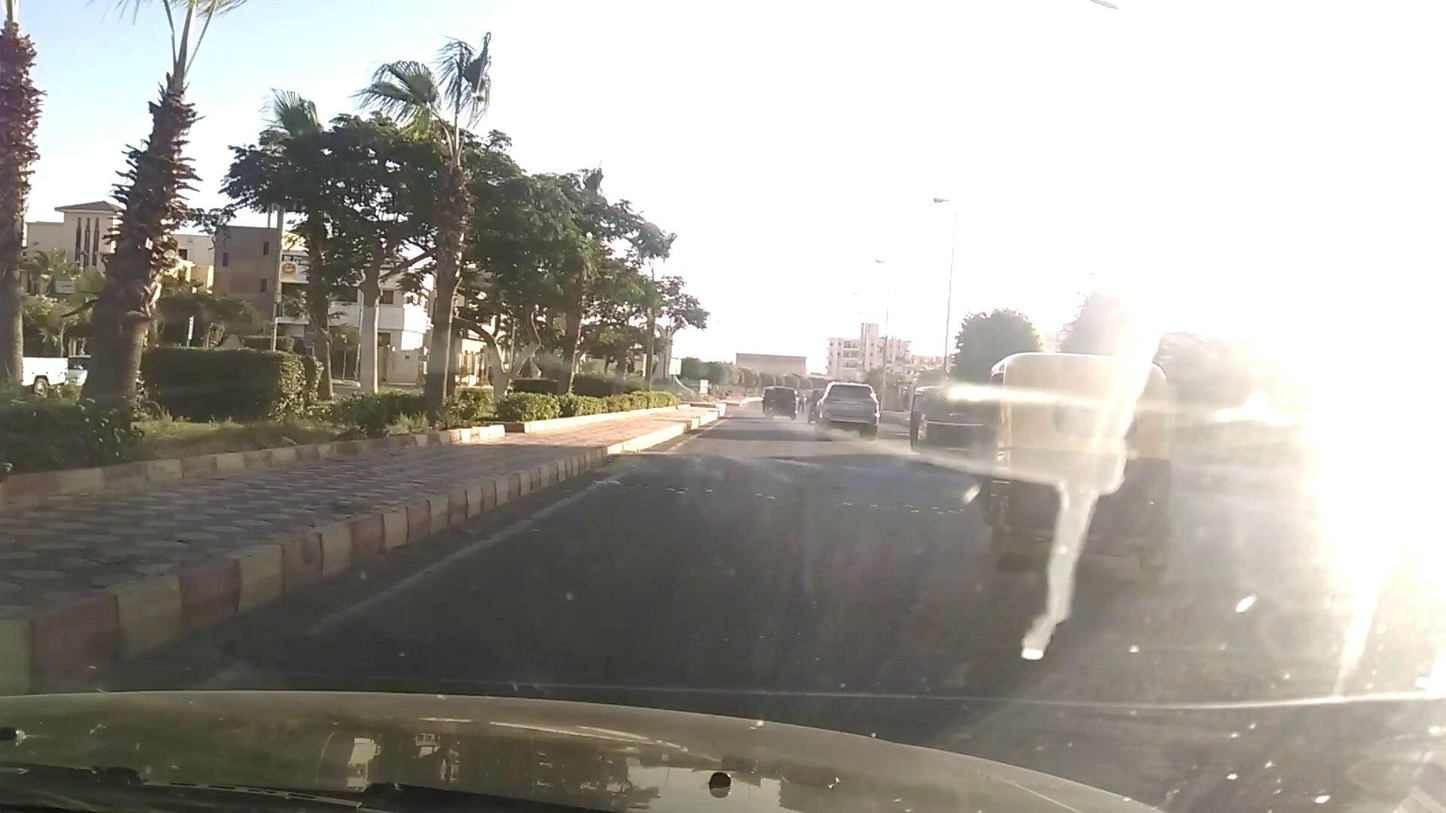Bump: (616, 440, 958, 495)
